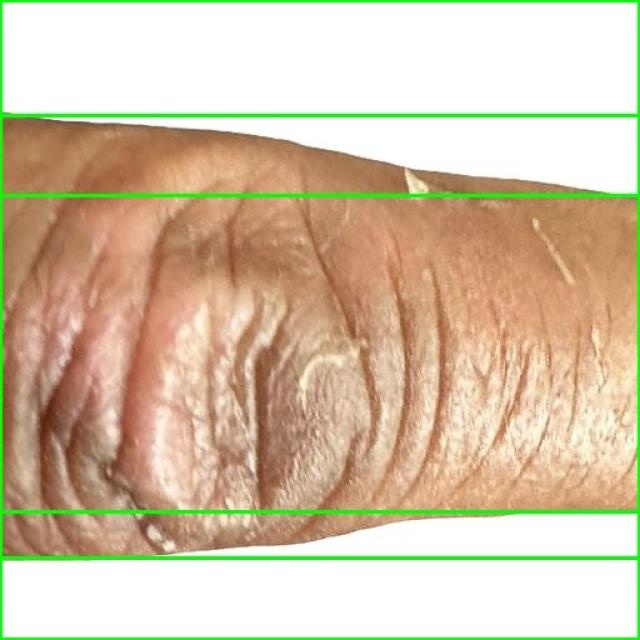Contact Dermatitis: (0, 115, 639, 558), (0, 0, 639, 195), (0, 511, 639, 639)
